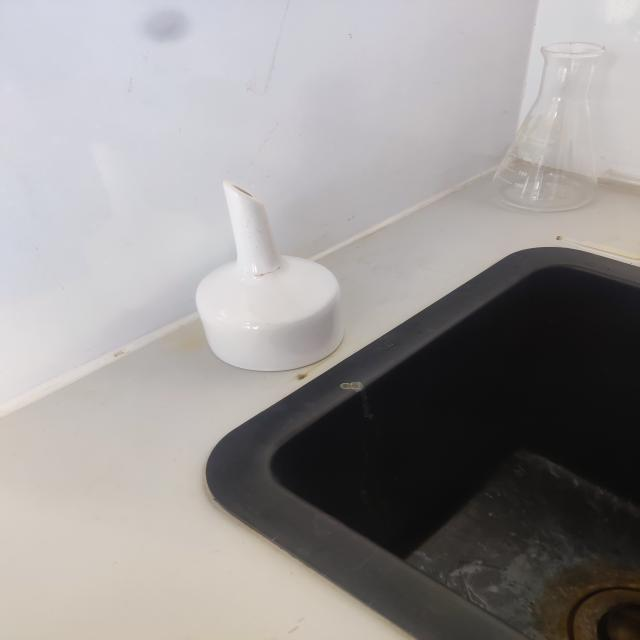Buchner_Funnel: (141, 159, 374, 404)
